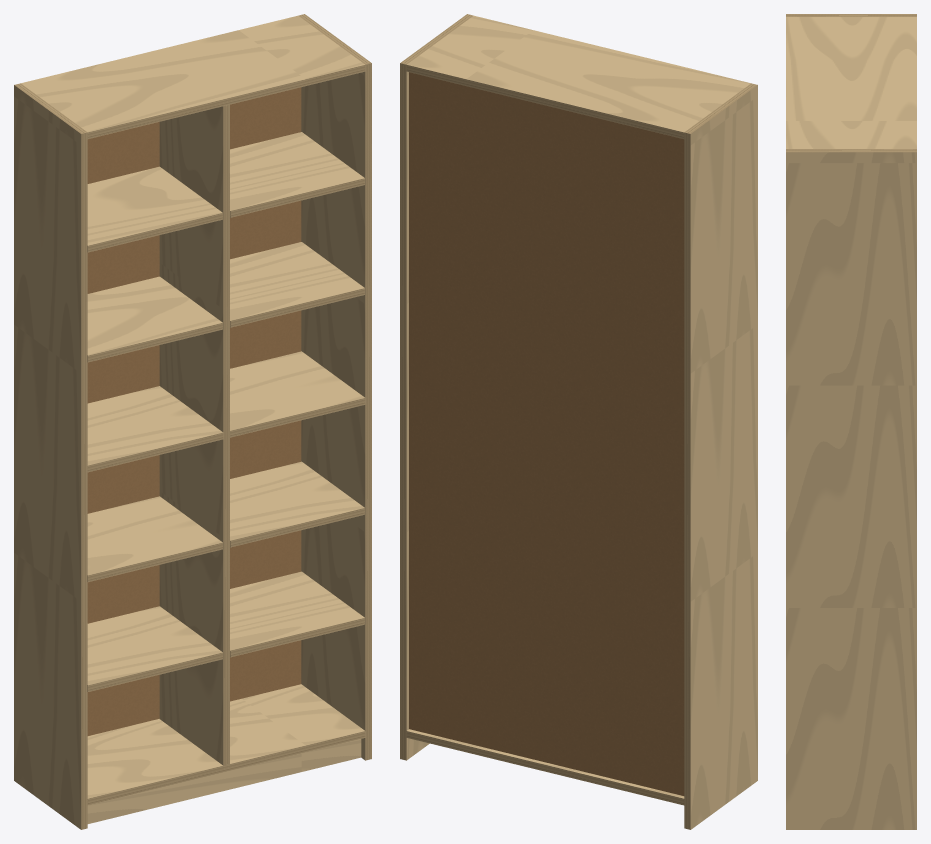
The model's file is SAB-BKC-std.glb.
3 views of the same model, side by side, from view 1: azimuth 30°, elevation 25°; view 2: azimuth 150°, elevation 25°; view 3: azimuth 270°, elevation 25° (orthographic). The views are drawn at different scales.
Parts seen in each view (by area): view 1: side-l:sheet:eyJtIjoicGx5Iiwic2lkZSI6ImZhY2UiLCJzZWVkIjoxLCJ, back:sheet:eyJtIjoibWRmIiwic2lkZSI6ImZhY2UiLCJzZWVkIjo0LCJ0a, side-r:sheet:eyJtIjoicGx5Iiwic2lkZSI6ImZhY2UiLCJzZWVkIjozLCJ, partition:sheet:eyJtIjoicGx5Iiwic2lkZSI6ImZhY2UiLCJzZWVkIjo0, top:sheet:eyJtIjoicGx5Iiwic2lkZSI6ImZhY2UiLCJzZWVkIjo2LCJ2ZW, bottom:sheet:eyJtIjoicGx5Iiwic2lkZSI6ImZhY2UiLCJzZWVkIjowLCJ, shelf-fixedl:sheet:eyJtIjoicGx5Iiwic2lkZSI6ImZhY2UiLCJzZWVkI, shelf-3:sheet:eyJtIjoicGx5Iiwic2lkZSI6ImZhY2UiLCJzZWVkIjoxLC, shelf-5:sheet:eyJtIjoicGx5Iiwic2lkZSI6ImZhY2UiLCJzZWVkIjo2LC, shelf-7:sheet:eyJtIjoicGx5Iiwic2lkZSI6ImZhY2UiLCJzZWVkIjo0LC, shelf-1:sheet:eyJtIjoicGx5Iiwic2lkZSI6ImZhY2UiLCJzZWVkIjoyLC, shelf-fixedr:sheet:eyJtIjoicGx5Iiwic2lkZSI6ImZhY2UiLCJzZWVkI (+20 smaller); view 2: back:sheet:eyJtIjoibWRmIiwic2lkZSI6ImZhY2UiLCJzZWVkIjo0LCJ0a, side-l:sheet:eyJtIjoicGx5Iiwic2lkZSI6ImZhY2UiLCJzZWVkIjoxLCJ, top:sheet:eyJtIjoicGx5Iiwic2lkZSI6ImZhY2UiLCJzZWVkIjo2LCJ2ZW, side-l:sheet:eyJtIjoicGx5Iiwic2lkZSI6ImVkZ2UtbG9uZyIsInNlZWQ, side-r:sheet:eyJtIjoicGx5Iiwic2lkZSI6ImVkZ2UtbG9uZyIsInNlZWQ, side-r:sheet:eyJtIjoicGx5Iiwic2lkZSI6ImZhY2UiLCJzZWVkIjozLCJ, bottom:sheet:eyJtIjoicGx5Iiwic2lkZSI6ImVkZ2UtbG9uZyIsInNlZWQ, top:sheet:eyJtIjoicGx5Iiwic2lkZSI6ImVkZ2UtbG9uZyIsInNlZWQiOj, bottom:sheet:eyJtIjoicGx5Iiwic2lkZSI6ImZhY2UiLCJzZWVkIjowLCJ; view 3: side-r:sheet:eyJtIjoicGx5Iiwic2lkZSI6ImZhY2UiLCJzZWVkIjozLCJ, top:sheet:eyJtIjoicGx5Iiwic2lkZSI6ImZhY2UiLCJzZWVkIjo2LCJ2ZW, side-r:sheet:eyJtIjoicGx5Iiwic2lkZSI6ImVkZ2UtZW5kIiwic2VlZCI, side-l:sheet:eyJtIjoicGx5Iiwic2lkZSI6ImVkZ2UtZW5kIiwic2VlZCI.
Boxes of the visible parts, x1=… form: side-l:sheet:eyJtIjoicGx5Iiwic2lkZSI6ImZhY2UiLCJzZWVkIjoxLCJ: x1=14, y1=85, x2=81, y2=829; back:sheet:eyJtIjoibWRmIiwic2lkZSI6ImZhY2UiLCJzZWVkIjo0LCJ0a: x1=87, y1=87, x2=301, y2=735; side-r:sheet:eyJtIjoicGx5Iiwic2lkZSI6ImZhY2UiLCJzZWVkIjozLCJ: x1=301, y1=71, x2=365, y2=760; partition:sheet:eyJtIjoicGx5Iiwic2lkZSI6ImZhY2UiLCJzZWVkIjo0: x1=159, y1=106, x2=223, y2=765; top:sheet:eyJtIjoicGx5Iiwic2lkZSI6ImZhY2UiLCJzZWVkIjo2LCJ2ZW: x1=21, y1=15, x2=364, y2=132; bottom:sheet:eyJtIjoicGx5Iiwic2lkZSI6ImZhY2UiLCJzZWVkIjowLCJ: x1=87, y1=684, x2=364, y2=798; shelf-fixedl:sheet:eyJtIjoicGx5Iiwic2lkZSI6ImZhY2UiLCJzZWVkI: x1=87, y1=386, x2=222, y2=465; shelf-3:sheet:eyJtIjoicGx5Iiwic2lkZSI6ImZhY2UiLCJzZWVkIjoxLC: x1=87, y1=496, x2=222, y2=575; shelf-5:sheet:eyJtIjoicGx5Iiwic2lkZSI6ImZhY2UiLCJzZWVkIjo2LC: x1=87, y1=276, x2=222, y2=355; shelf-7:sheet:eyJtIjoicGx5Iiwic2lkZSI6ImZhY2UiLCJzZWVkIjo0LC: x1=87, y1=166, x2=222, y2=245; shelf-1:sheet:eyJtIjoicGx5Iiwic2lkZSI6ImZhY2UiLCJzZWVkIjoyLC: x1=87, y1=606, x2=222, y2=685; shelf-fixedr:sheet:eyJtIjoicGx5Iiwic2lkZSI6ImZhY2UiLCJzZWVkI: x1=230, y1=351, x2=364, y2=430; back:sheet:eyJtIjoibWRmIiwic2lkZSI6ImZhY2UiLCJzZWVkIjo0LCJ0a: x1=409, y1=72, x2=684, y2=795; side-l:sheet:eyJtIjoicGx5Iiwic2lkZSI6ImZhY2UiLCJzZWVkIjoxLCJ: x1=690, y1=85, x2=757, y2=829; top:sheet:eyJtIjoicGx5Iiwic2lkZSI6ImZhY2UiLCJzZWVkIjo2LCJ2ZW: x1=407, y1=15, x2=750, y2=132; side-l:sheet:eyJtIjoicGx5Iiwic2lkZSI6ImVkZ2UtbG9uZyIsInNlZWQ: x1=684, y1=132, x2=690, y2=829; side-r:sheet:eyJtIjoicGx5Iiwic2lkZSI6ImVkZ2UtbG9uZyIsInNlZWQ: x1=400, y1=63, x2=406, y2=760; side-r:sheet:eyJtIjoicGx5Iiwic2lkZSI6ImZhY2UiLCJzZWVkIjozLCJ: x1=406, y1=71, x2=429, y2=760; bottom:sheet:eyJtIjoicGx5Iiwic2lkZSI6ImVkZ2UtbG9uZyIsInNlZWQ: x1=406, y1=731, x2=684, y2=805; top:sheet:eyJtIjoicGx5Iiwic2lkZSI6ImVkZ2UtbG9uZyIsInNlZWQiOj: x1=406, y1=65, x2=684, y2=138; bottom:sheet:eyJtIjoicGx5Iiwic2lkZSI6ImZhY2UiLCJzZWVkIjowLCJ: x1=407, y1=729, x2=684, y2=798; side-r:sheet:eyJtIjoicGx5Iiwic2lkZSI6ImZhY2UiLCJzZWVkIjozLCJ: x1=786, y1=152, x2=916, y2=829; top:sheet:eyJtIjoicGx5Iiwic2lkZSI6ImZhY2UiLCJzZWVkIjo2LCJ2ZW: x1=786, y1=17, x2=916, y2=148; side-r:sheet:eyJtIjoicGx5Iiwic2lkZSI6ImVkZ2UtZW5kIiwic2VlZCI: x1=786, y1=149, x2=916, y2=152; side-l:sheet:eyJtIjoicGx5Iiwic2lkZSI6ImVkZ2UtZW5kIiwic2VlZCI: x1=786, y1=14, x2=916, y2=16.
Size of the model in its own units: 0.8 by 1.83 by 0.32.
Materials: 51 (51 with a texture image).
